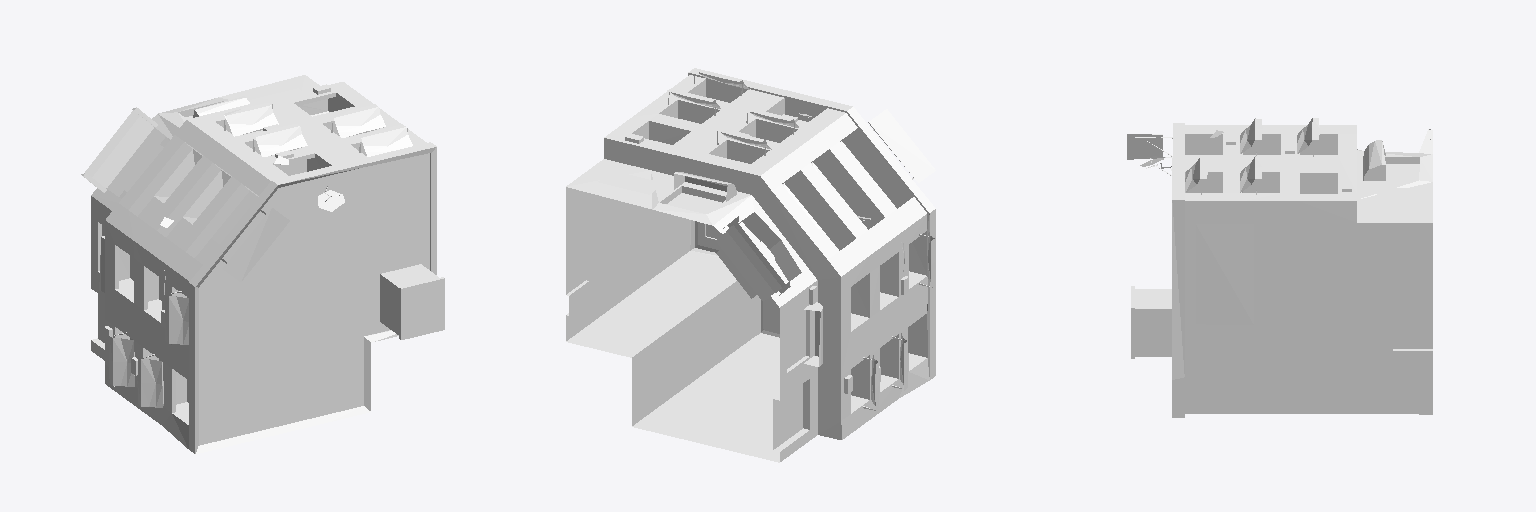
The model's file is house3LOD.obj.
3 renders of one model, left to right at view 1: azimuth 30°, elevation 25°; view 2: azimuth 150°, elevation 25°; view 3: azimuth 270°, elevation 25°, orthographic.
Visible parts, largest first — view 1: house3.001_LOD1.001_LOD1; view 2: house3.001_LOD1.001_LOD1; view 3: house3.001_LOD1.001_LOD1.
Boxes of the visible parts, x1,y1,x2,y2 form: house3.001_LOD1.001_LOD1: [81, 75, 444, 454]; house3.001_LOD1.001_LOD1: [566, 68, 935, 462]; house3.001_LOD1.001_LOD1: [1127, 118, 1432, 417].
Bounding box in the file's own units: 15.57 × 15.38 × 16.23.